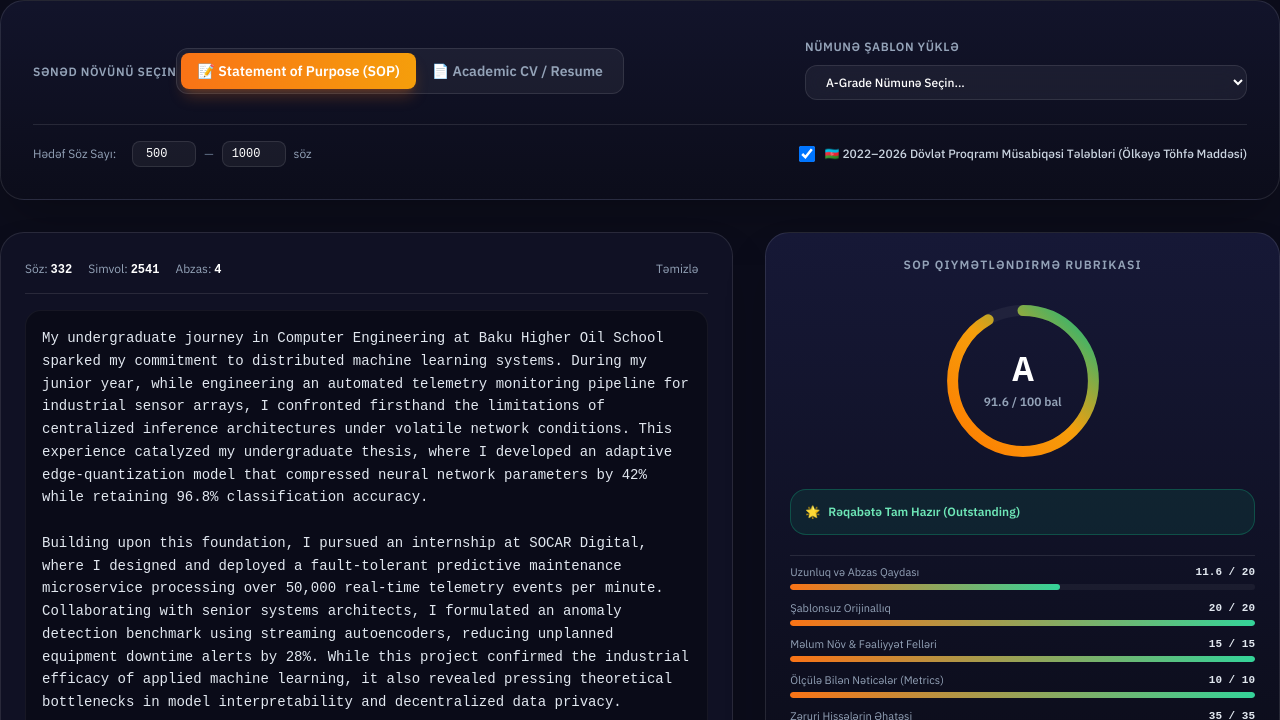
Test: SopChecker Component › switches to CV mode and displays CV analysis metrics
This screenshot has width=1280, height=720.
Click the button "📄 Academic CV / Resume".
click(517, 70)  # box top-left (416, 52), bottom-right (619, 88)
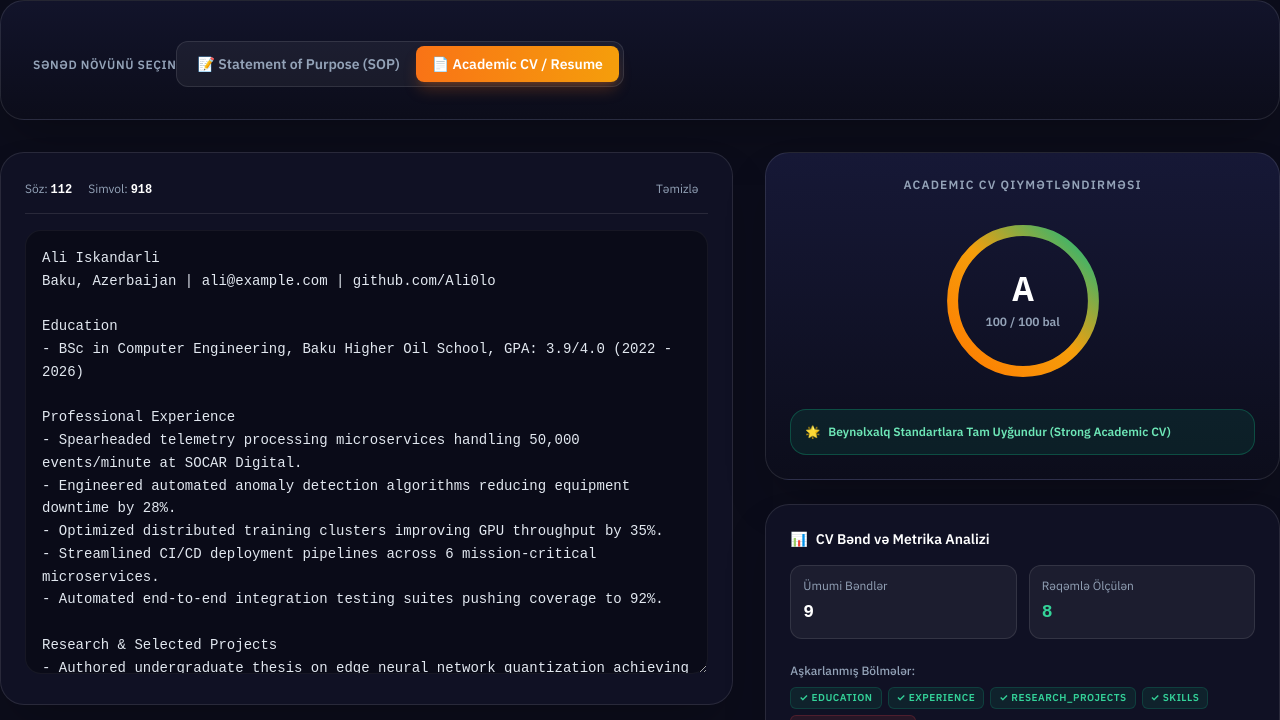
Expected: the heading "Academic CV Qiymətləndirməsi" is shown, top-left (904, 177), bottom-right (1142, 192)
Expected: the text "CV Bənd və Metrika Analizi" is shown, top-left (816, 529), bottom-right (990, 549)
Expected: the text "Ümumi Bəndlər" is shown, top-left (803, 578), bottom-right (888, 593)
